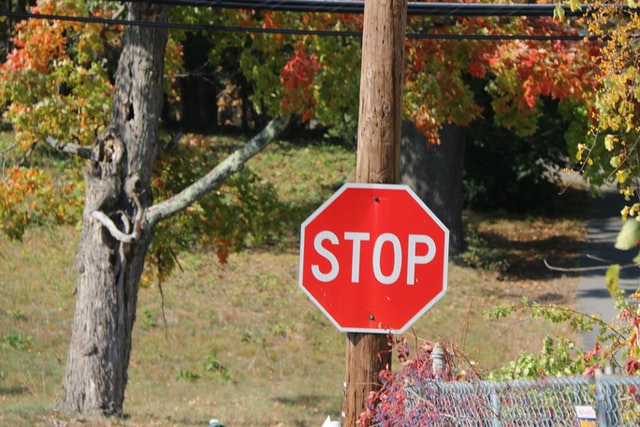STOP: (290, 180, 458, 341)
